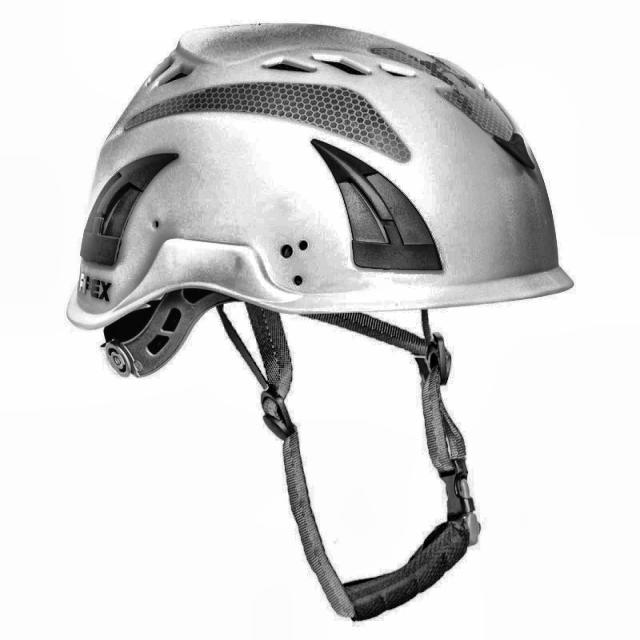Helmet: (74, 20, 583, 640)
